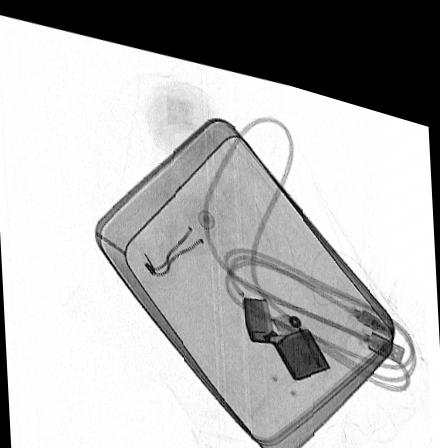Lighter: (242, 283, 330, 364)
